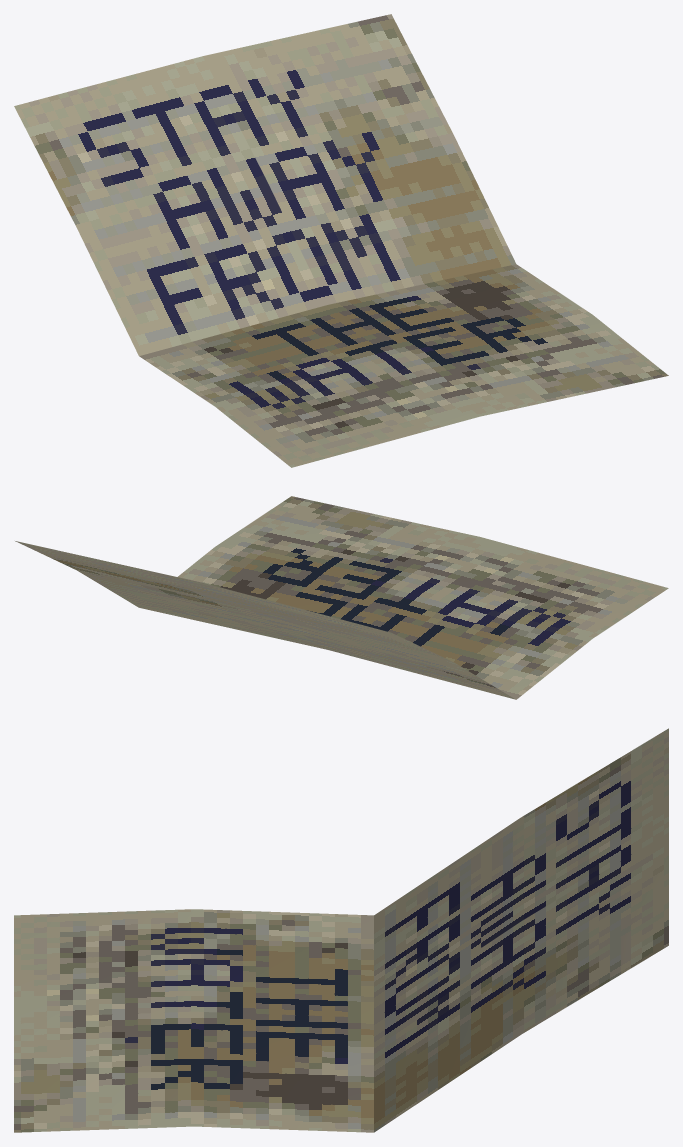
File: note_wet.glb
3 renders of one model, top to bottom at view 1: azimuth 30°, elevation 25°; view 2: azimuth 150°, elevation 25°; view 3: azimuth 270°, elevation 25°, orthographic. The views are drawn at different scales.
Visible parts, largest first — view 1: note_wet; view 2: note_wet; view 3: note_wet.
Boxes of the visible parts, x1,y1,x2,y2 form: note_wet: (14,14,668,467); note_wet: (15,496,668,699); note_wet: (14,728,668,1132).
Bounding box in the file's own units: 0.15 × 0.0617 × 0.191.
1 material, 1 textured.
